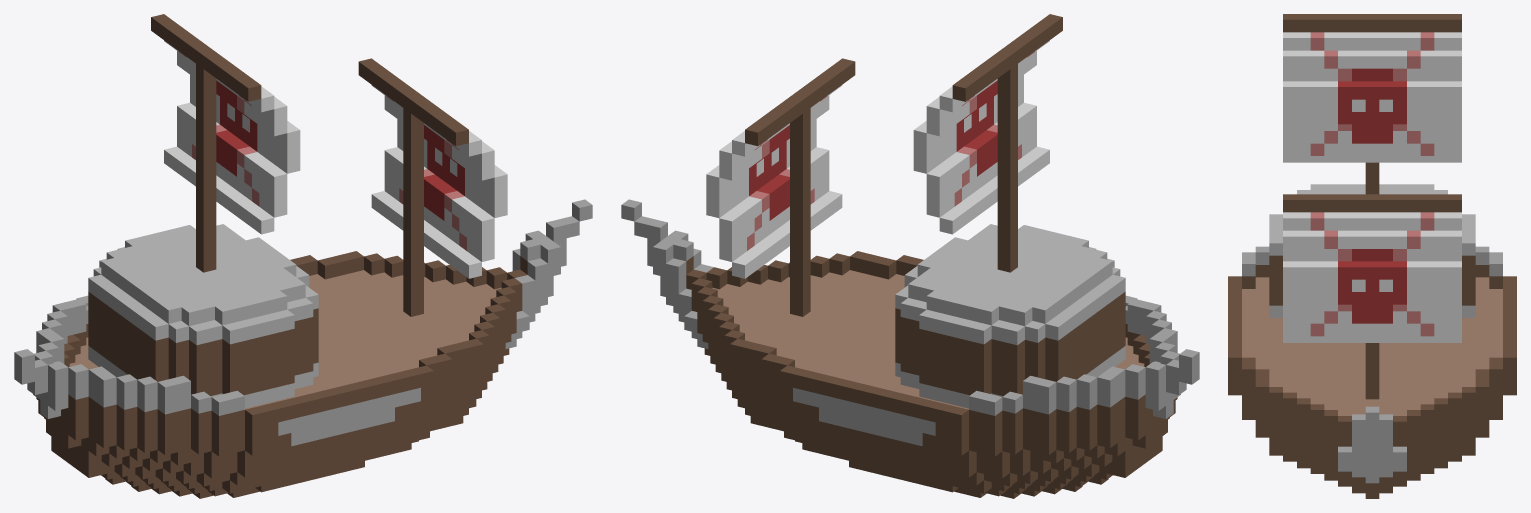
File: pirate ship 2.obj
The picture shows the model from 3 angles, left to right: view 1: azimuth 30°, elevation 25°; view 2: azimuth 150°, elevation 25°; view 3: azimuth 270°, elevation 25°; orthographic projection. The views are drawn at different scales.
Size of the model in its own units: 4.4 by 3.1 by 2.1.
